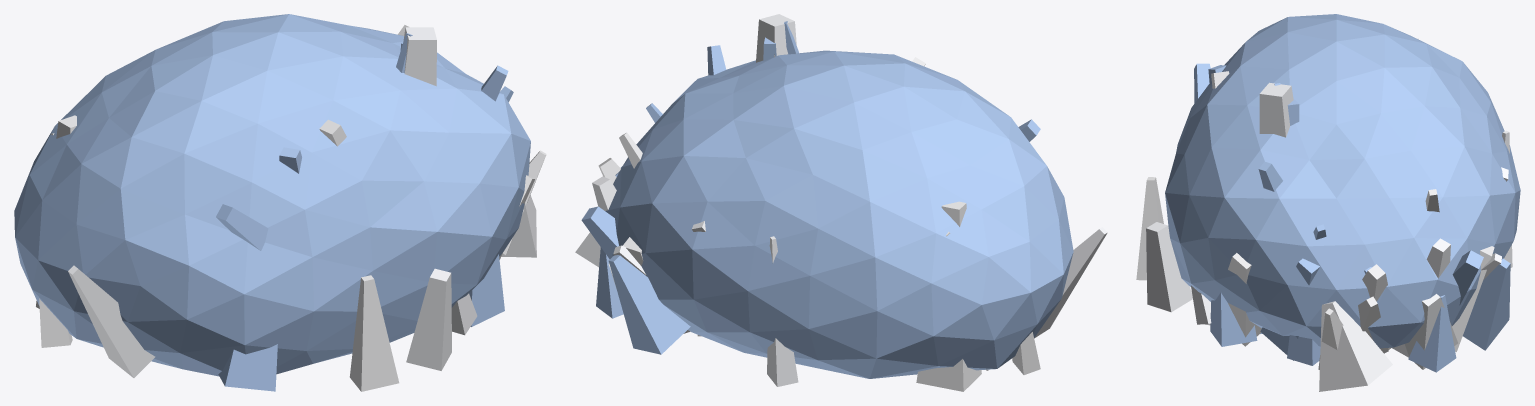
File: SatanIce.obj
3 views of the same model, side by side, from view 1: azimuth 30°, elevation 25°; view 2: azimuth 150°, elevation 25°; view 3: azimuth 270°, elevation 25° (orthographic). The views are drawn at different scales.
Visible parts, largest first — view 1: SatanIce; view 2: SatanIce; view 3: SatanIce.
Boxes of the visible parts, x1,y1,x2,y2 form: SatanIce: [14, 14, 546, 391]; SatanIce: [575, 14, 1107, 391]; SatanIce: [1136, 14, 1520, 391].
Size of the model in its own units: 1.96 by 1.01 by 1.42.
Materials: 1 (1 with a texture image).
